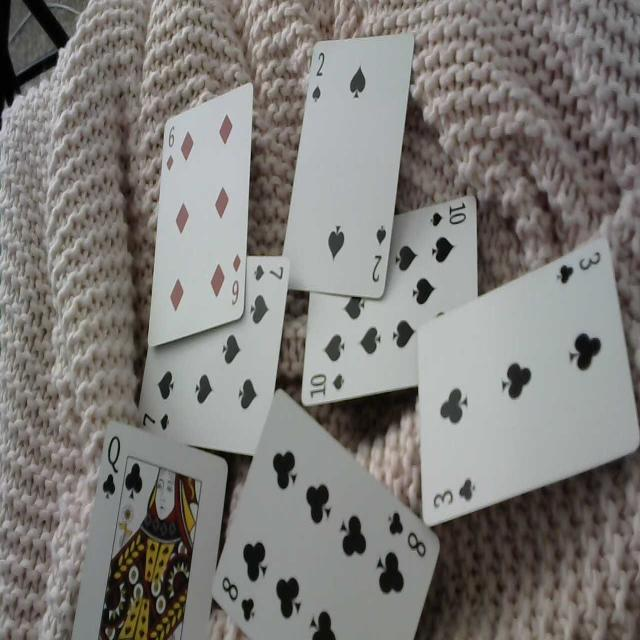10S: (428, 197, 469, 231), (307, 368, 347, 400)
2S: (369, 218, 389, 288), (310, 50, 326, 104)
3C: (555, 248, 603, 289), (433, 473, 479, 512)
6D: (228, 250, 242, 306), (165, 120, 178, 175)
7S: (139, 404, 172, 433), (252, 259, 283, 286)
8C: (385, 506, 427, 560), (222, 572, 258, 626)
QC: (101, 432, 121, 502)
